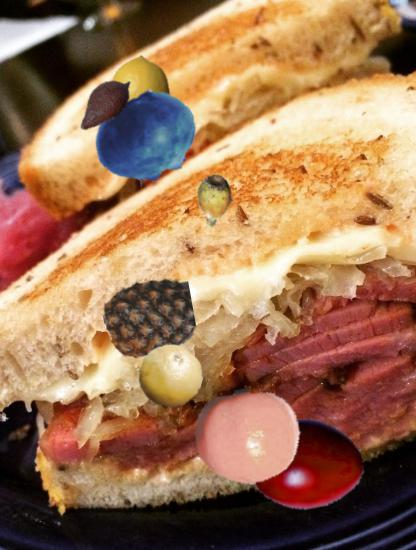Cactus: (188, 174, 243, 229)
Clementine: (193, 382, 302, 491)
Grapefruit: (136, 342, 203, 409)
Huckleberry: (95, 87, 199, 191)
Lemon: (102, 56, 180, 134)
Pineapple: (104, 273, 195, 364)
Salak: (70, 69, 140, 139)
Tamarillo: (239, 403, 363, 527)
